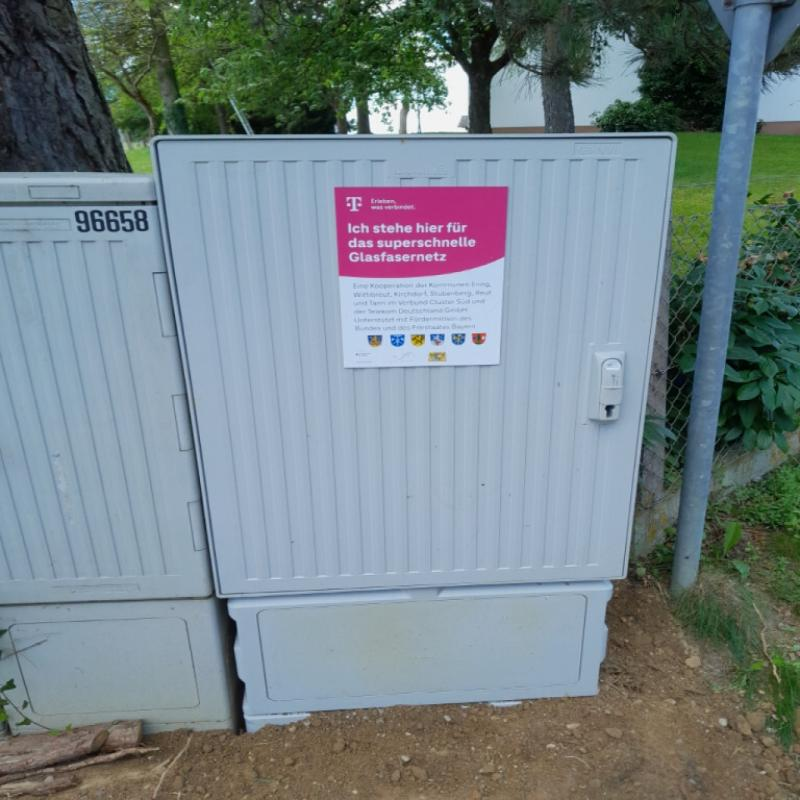NT-Gehause: (158, 132, 671, 708), (0, 172, 232, 713)
Steaker: (337, 183, 505, 368)
